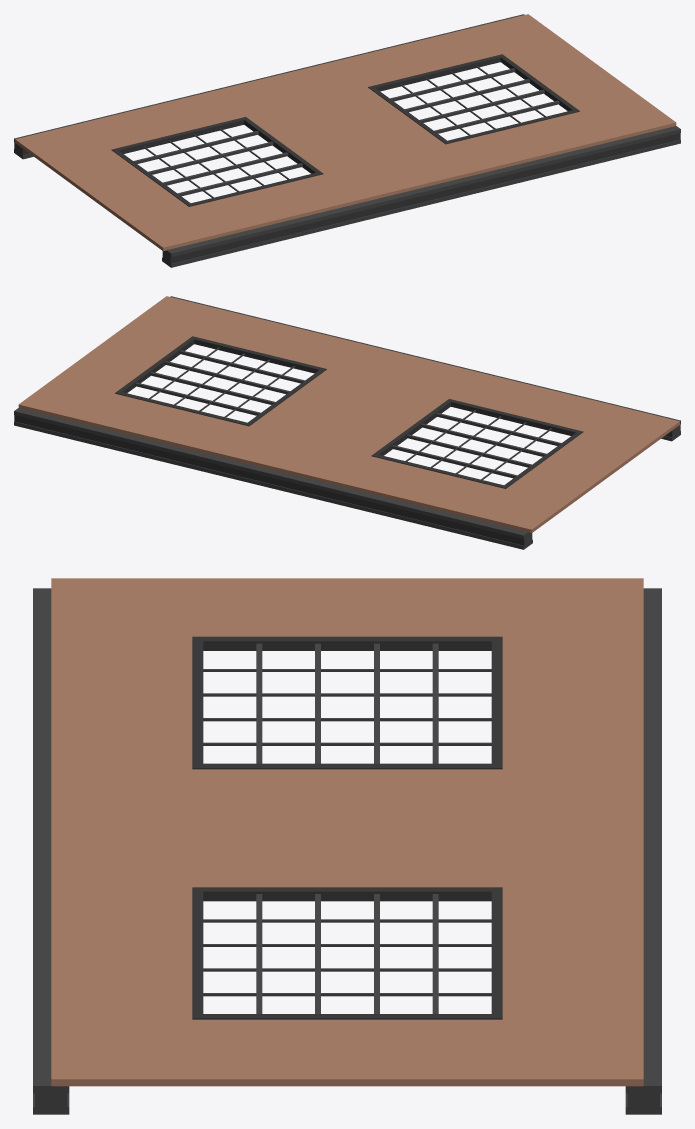
File: Roof_02.fbx
3 renders of one model, top to bottom at view 1: azimuth 30°, elevation 25°; view 2: azimuth 150°, elevation 25°; view 3: azimuth 270°, elevation 25°, orthographic. The views are drawn at different scales.
Visible parts, largest first — view 1: Roof_02; view 2: Roof_02; view 3: Roof_02.
Part boxes in pixels (x1,y1,x2,y2): Roof_02: [14, 14, 680, 267]; Roof_02: [14, 296, 680, 549]; Roof_02: [33, 578, 661, 1114].
Bounding box in the file's own units: 3000 × 102 × 1591.
